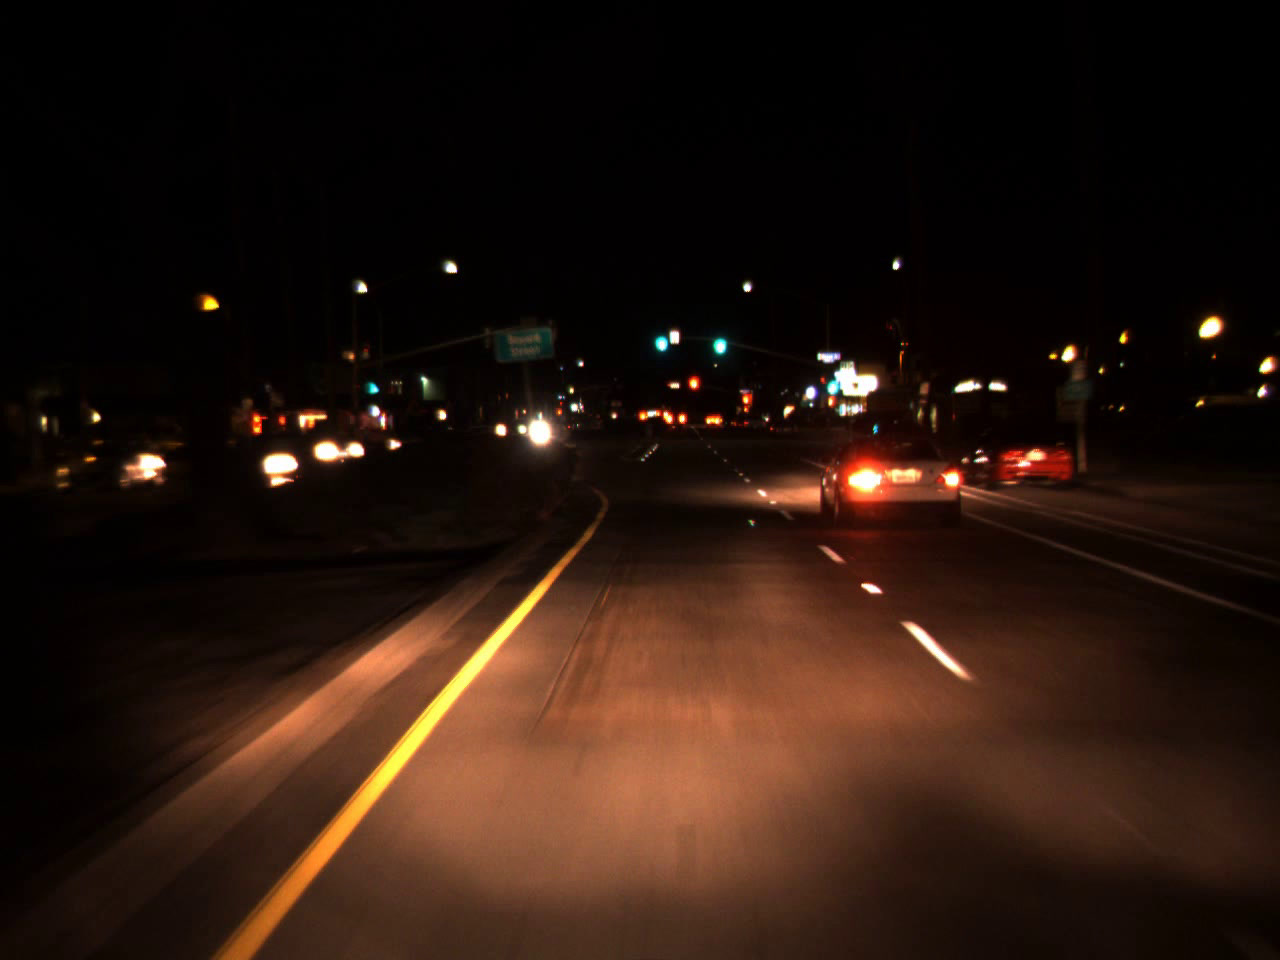go: (708, 318, 729, 360), (822, 361, 841, 400), (650, 321, 669, 354), (367, 372, 377, 396)
stop: (686, 374, 701, 406), (740, 393, 752, 425)
